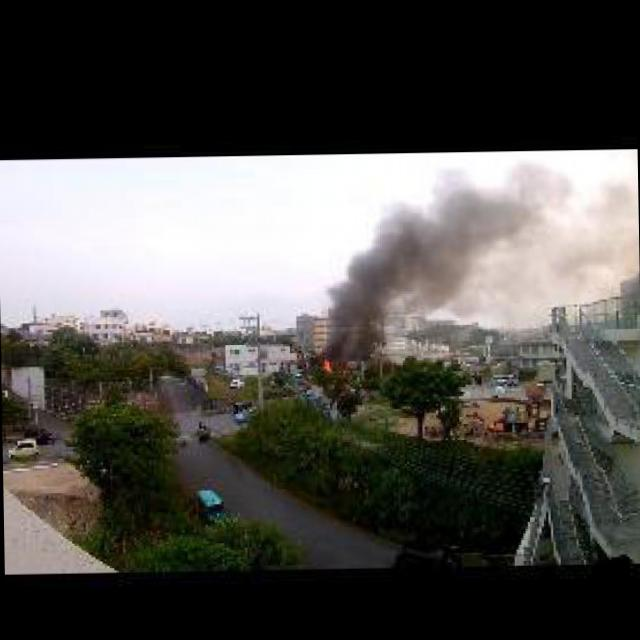fire: (322, 359, 334, 375)
smoke: (397, 182, 630, 308), (320, 223, 410, 354)
